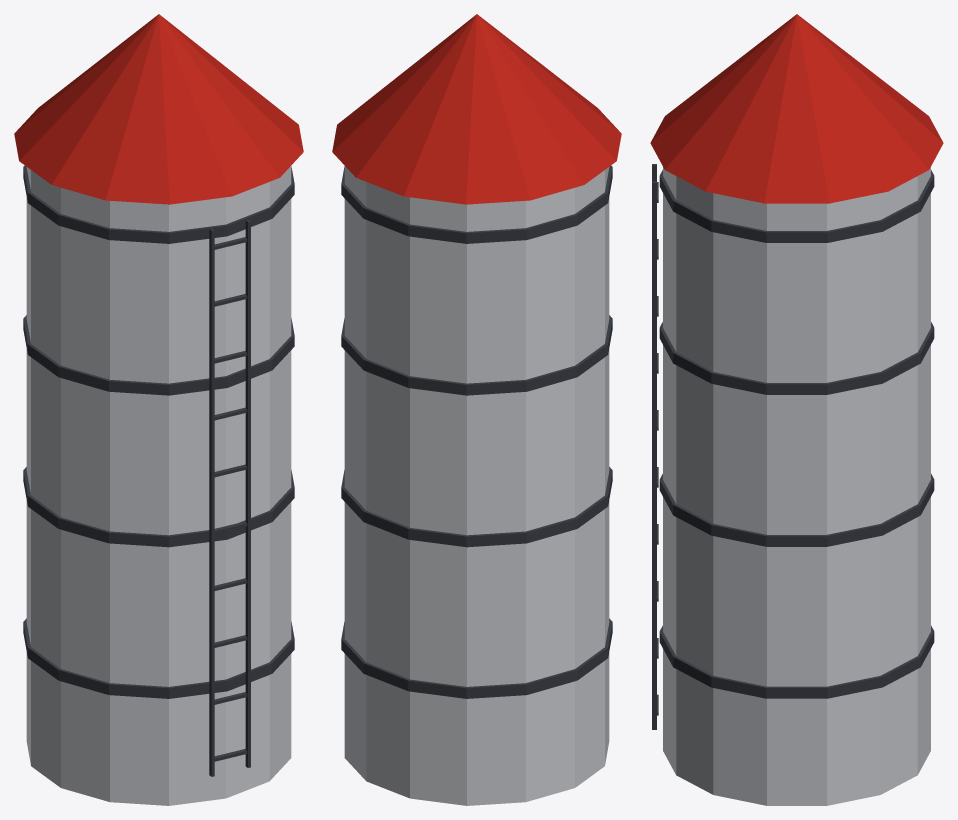
File: silo.glb
The picture shows the model from 3 angles, left to right: view 1: azimuth 30°, elevation 25°; view 2: azimuth 150°, elevation 25°; view 3: azimuth 270°, elevation 25°; orthographic projection.
Parts seen in each view (by area): view 1: silo; view 2: silo; view 3: silo.
Part boxes in pixels (box(x1,y1,x2,y2)): silo: box(14, 14, 303, 805); silo: box(332, 14, 621, 805); silo: box(650, 14, 943, 805).
Size of the model in its own units: 3.41 by 9.7 by 3.5.
